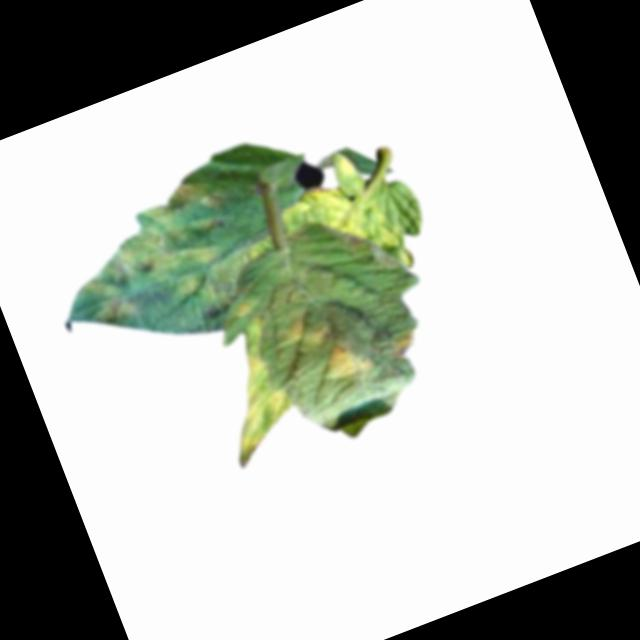Leaf_Mold: (36, 161, 278, 357), (273, 161, 417, 302), (192, 313, 310, 468), (316, 332, 380, 392), (282, 306, 338, 354), (383, 326, 421, 363)
